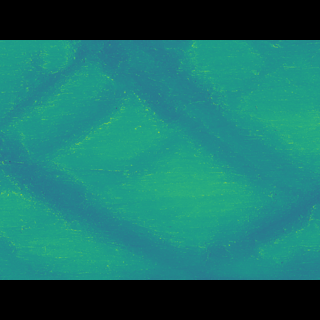Loch: (0, 137, 183, 236), (0, 69, 219, 139), (195, 171, 319, 243)
